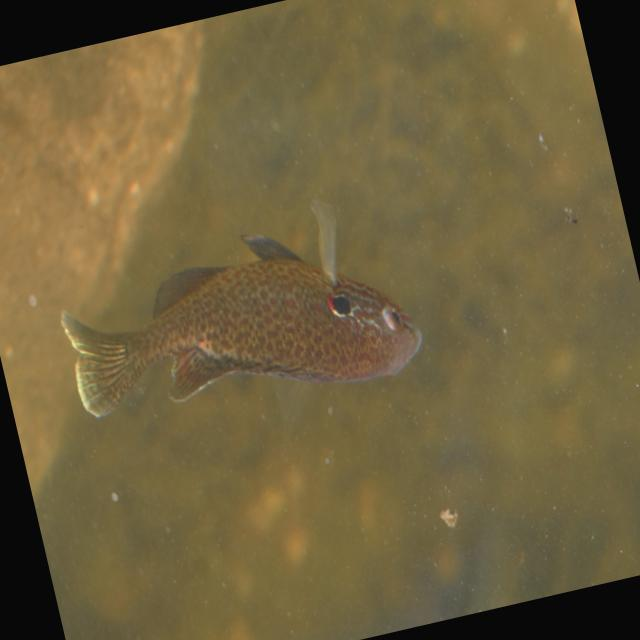Gunes Levregi: (44, 181, 432, 449)
